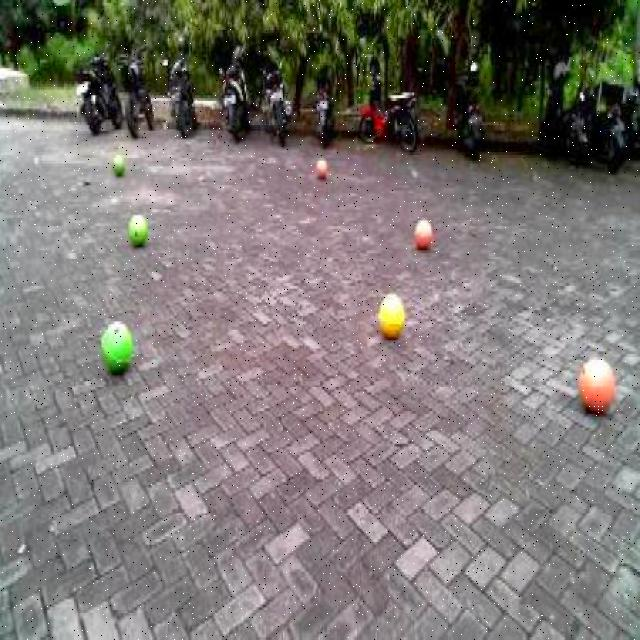buoy: (575, 350, 615, 421), (98, 314, 135, 374), (378, 284, 408, 340), (128, 207, 149, 248), (413, 215, 433, 250)
